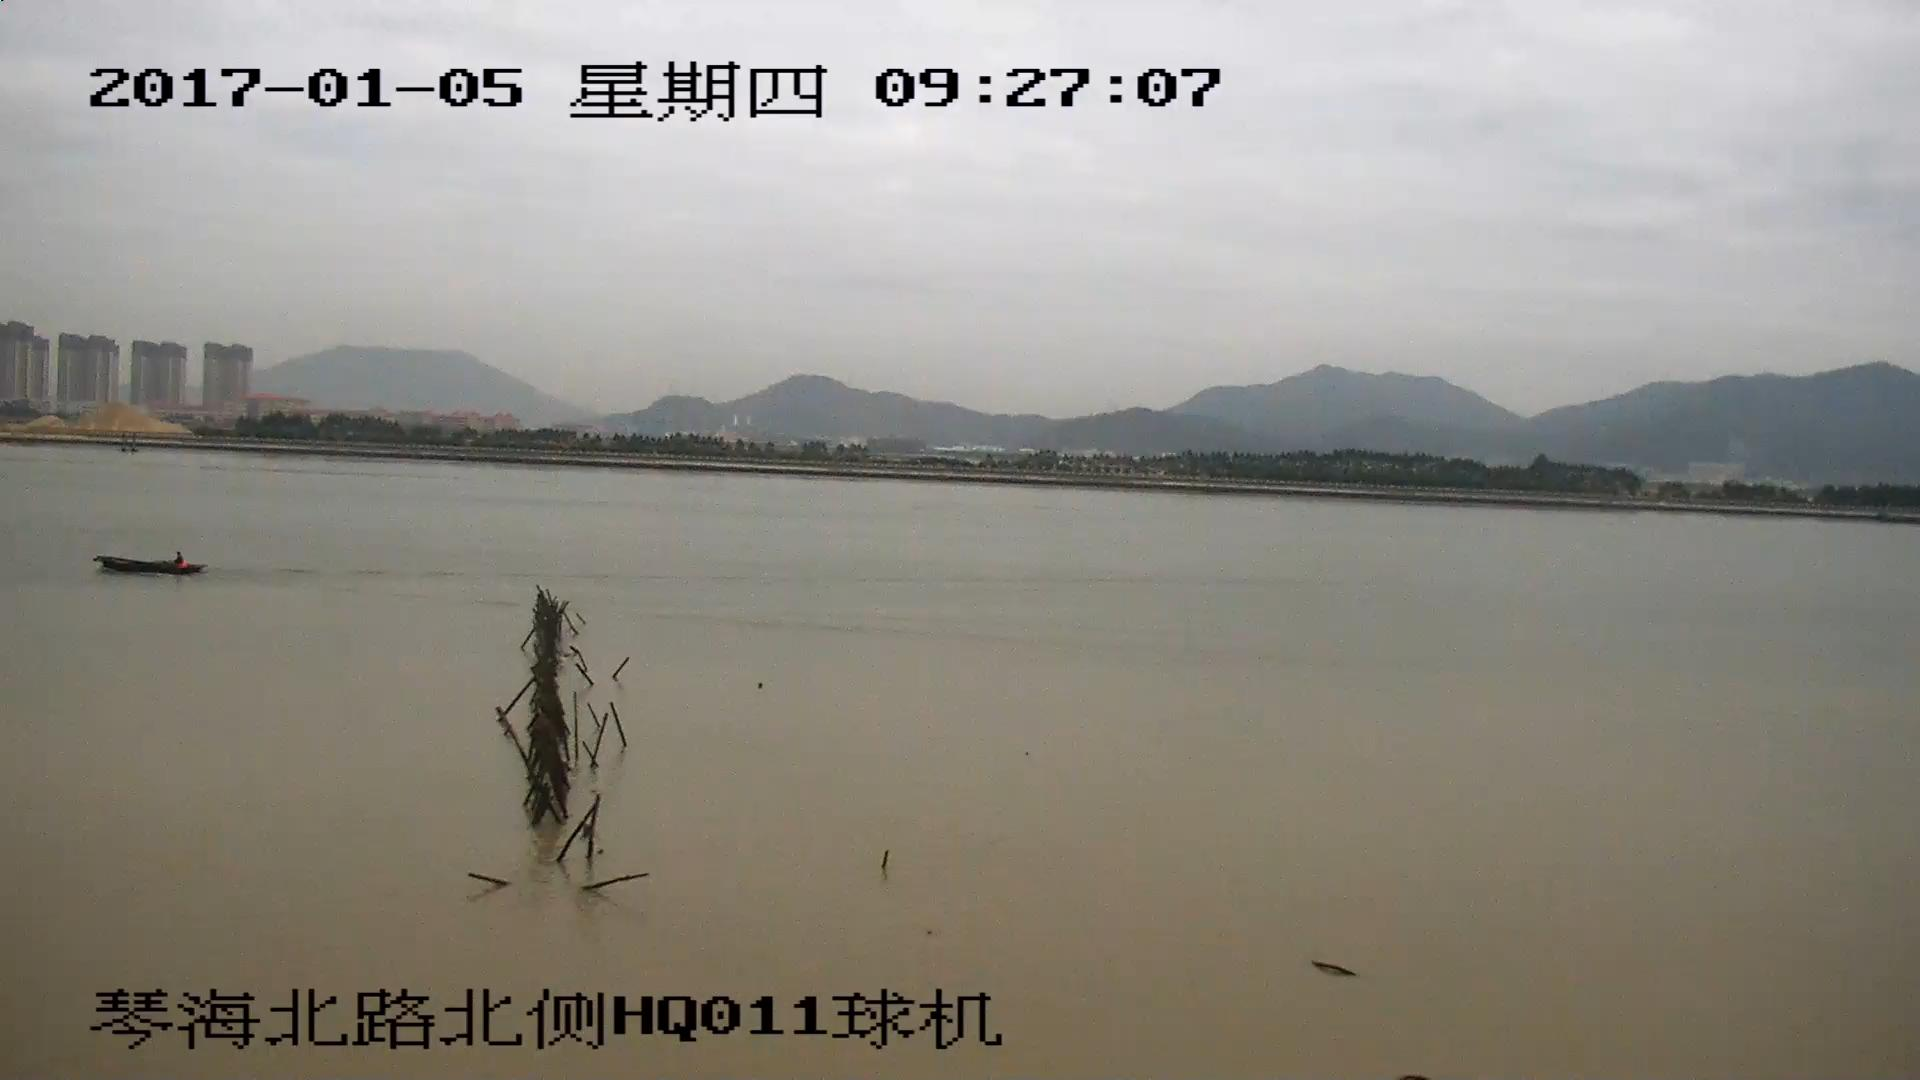fishing boat: (93, 550, 198, 574)
